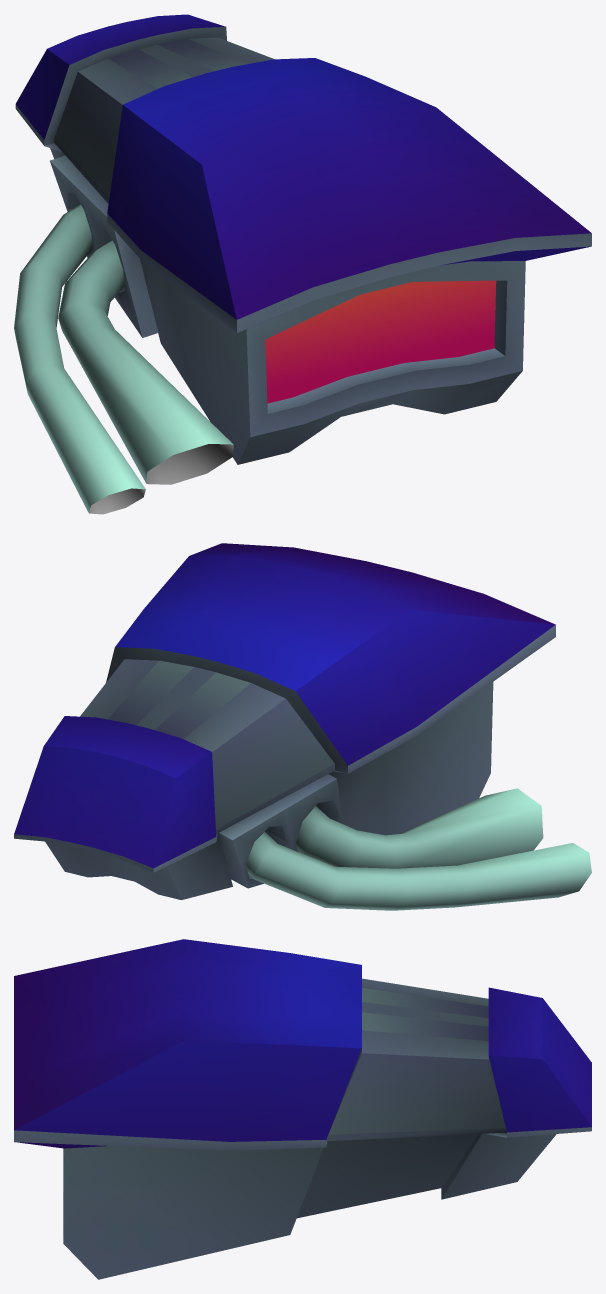
File: engine.glb
3 renders of one model, top to bottom at view 1: azimuth 30°, elevation 25°; view 2: azimuth 150°, elevation 25°; view 3: azimuth 270°, elevation 25°, orthographic. The views are drawn at different scales.
Visible parts, largest first — view 1: Cube1; view 2: Cube1; view 3: Cube1.
Boxes of the visible parts, bbox=[...] form: Cube1: bbox=[14, 14, 591, 514]; Cube1: bbox=[14, 543, 591, 910]; Cube1: bbox=[14, 939, 591, 1279].
Bounding box in the file's own units: 5.49 × 3.65 × 6.9.
1 material, 1 textured.
